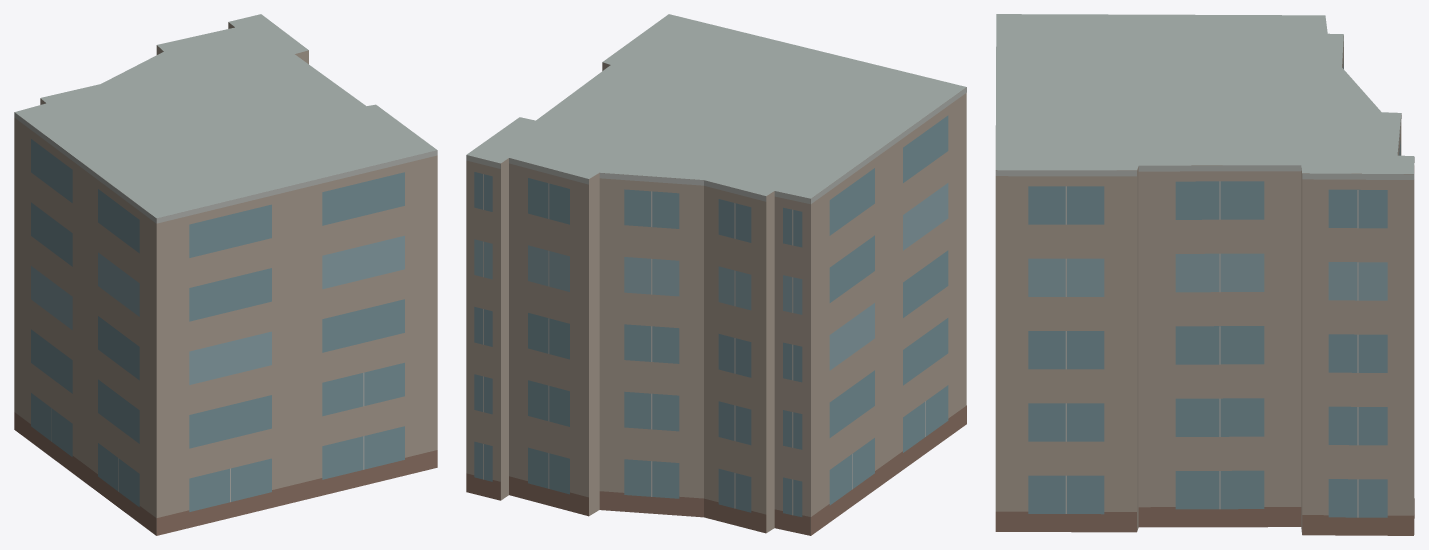
The model's file is survey-upis-33046310.glb.
The picture shows the model from 3 angles, left to right: view 1: azimuth 30°, elevation 25°; view 2: azimuth 150°, elevation 25°; view 3: azimuth 270°, elevation 25°; orthographic projection. The views are drawn at different scales.
Parts seen in each view (by area): view 1: survey-upis-33046310.tmp; view 2: survey-upis-33046310.tmp; view 3: survey-upis-33046310.tmp.
Boxes of the visible parts, left/top/right/bottom form: survey-upis-33046310.tmp: left=14, top=14, right=437, bottom=535; survey-upis-33046310.tmp: left=466, top=14, right=966, bottom=535; survey-upis-33046310.tmp: left=995, top=14, right=1414, bottom=535.
Size of the model in its own units: 13.96 by 14.7 by 15.43.
